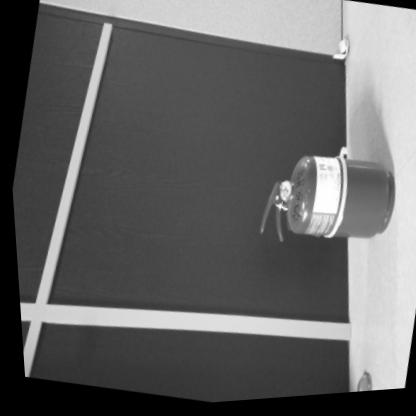FE: (249, 141, 404, 268)
